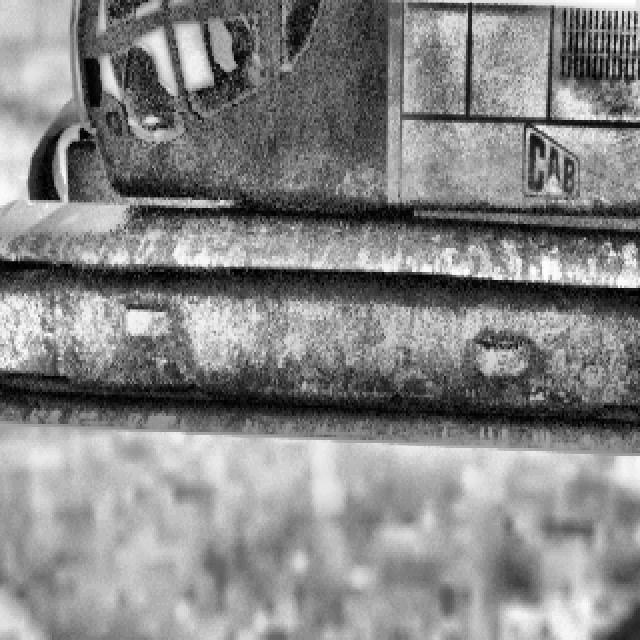excavator: (0, 0, 640, 456)
